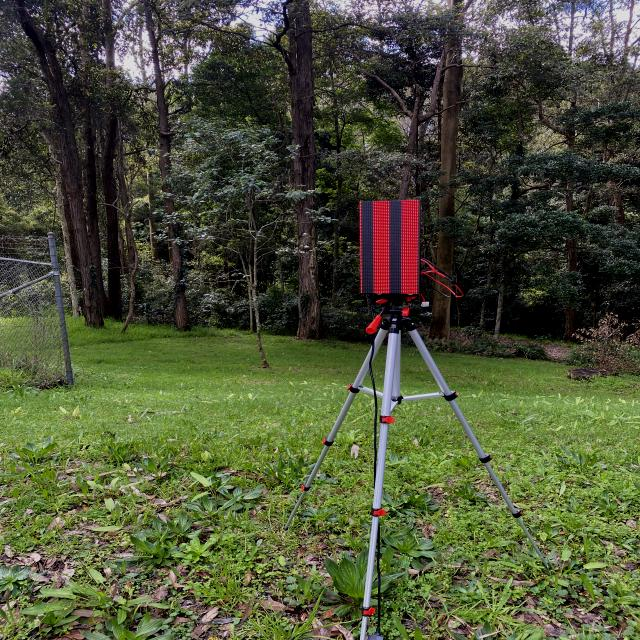matrix: (349, 197, 430, 299)
